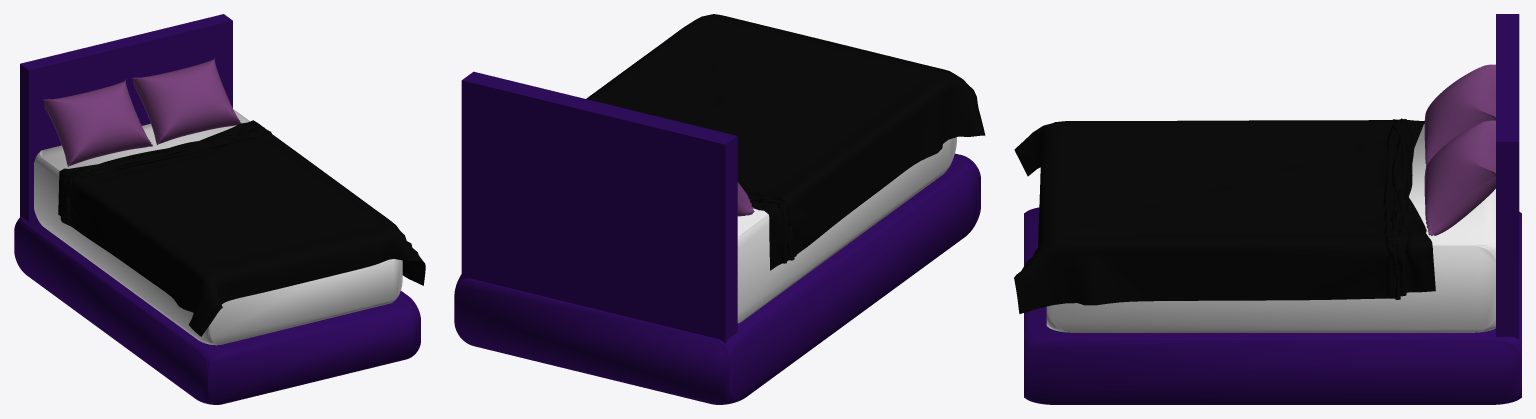
File: BedDesignC.glb
The picture shows the model from 3 angles, left to right: view 1: azimuth 30°, elevation 25°; view 2: azimuth 150°, elevation 25°; view 3: azimuth 270°, elevation 25°; orthographic projection. The views are drawn at different scales.
Parts seen in each view (by area): view 1: Duvet, Mattress.003, Mattress.002, Cube, Pillow.002, Pillow.003; view 2: Cube, Duvet, Mattress.003, Mattress.002; view 3: Duvet, Mattress.003, Mattress.002, Cube, Pillow.003, Pillow.002.
Boxes of the visible parts, <box> form: Duvet: <box>58,120,425,336</box>; Mattress.003: <box>14,217,420,404</box>; Mattress.002: <box>34,110,402,345</box>; Cube: <box>20,14,232,221</box>; Pillow.002: <box>43,79,152,166</box>; Pillow.003: <box>132,58,241,144</box>; Cube: <box>461,71,737,343</box>; Duvet: <box>586,14,985,270</box>; Mattress.003: <box>454,153,980,404</box>; Mattress.002: <box>737,137,956,323</box>; Duvet: <box>1014,118,1435,313</box>; Mattress.003: <box>1024,207,1521,404</box>; Mattress.002: <box>1046,124,1495,332</box>; Cube: <box>1496,14,1519,339</box>; Pillow.003: <box>1424,120,1495,235</box>; Pillow.002: <box>1424,64,1495,166</box>.
Size of the model in its own units: 3.49 by 2.98 by 5.27.
